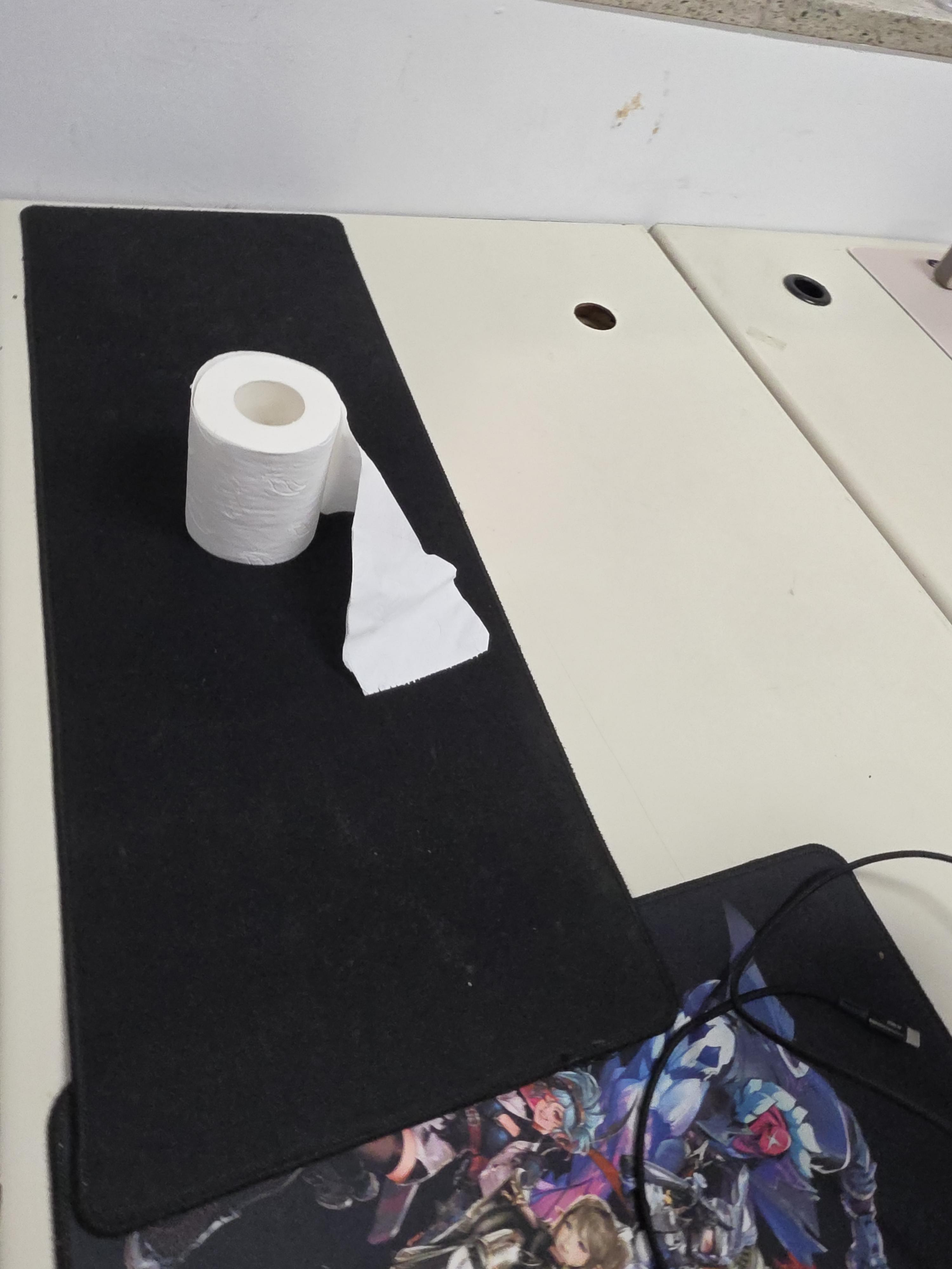tissue: (185, 351, 489, 696)
